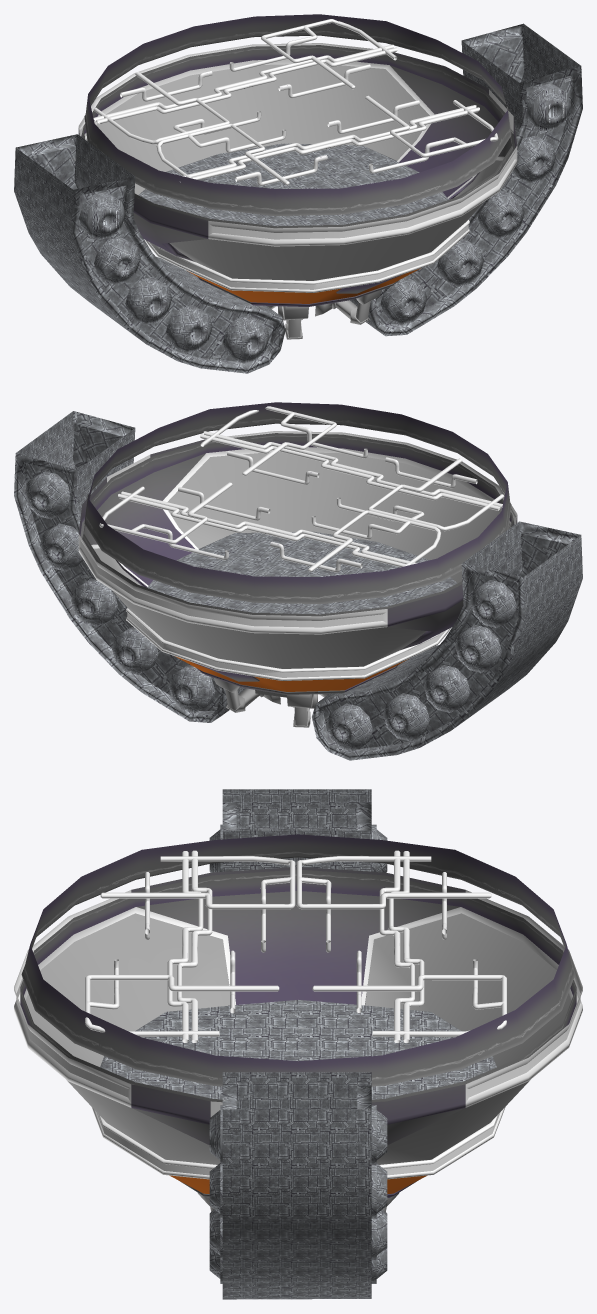
The model's file is ShipBrettom.fbx.
3 views of the same model, one above another, from view 1: azimuth 30°, elevation 25°; view 2: azimuth 150°, elevation 25°; view 3: azimuth 270°, elevation 25° (orthographic). The views are drawn at different scales.
Parts seen in each view (by area): view 1: polySurface32, polySurface41, Sheel, polySurface42, polySurface40, CeilingStuff6, pCube8; view 2: polySurface32, polySurface41, Sheel, polySurface42, polySurface40, CeilingStuff6, pCube8; view 3: polySurface32, polySurface41, Sheel, polySurface42, CeilingStuff6, polySurface40.
Boxes of the visible parts, left/top/right/bottom form: polySurface32: left=78, top=43, right=517, bottom=306; polySurface41: left=14, top=23, right=582, bottom=373; Sheel: left=86, top=64, right=501, bottom=280; polySurface42: left=84, top=14, right=511, bottom=216; polySurface40: left=79, top=83, right=571, bottom=363; CeilingStuff6: left=93, top=19, right=498, bottom=185; pCube8: left=267, top=290, right=381, bottom=339; polySurface32: left=78, top=431, right=517, bottom=694; polySurface41: left=14, top=411, right=582, bottom=760; Sheel: left=94, top=452, right=509, bottom=668; polySurface42: left=84, top=402, right=511, bottom=604; polySurface40: left=24, top=471, right=516, bottom=751; CeilingStuff6: left=99, top=406, right=504, bottom=572; pCube8: left=214, top=678, right=328, bottom=727; polySurface32: left=14, top=867, right=582, bottom=1197; polySurface41: left=222, top=789, right=371, bottom=1299; Sheel: left=25, top=913, right=571, bottom=1164; polySurface42: left=21, top=834, right=575, bottom=1086; CeilingStuff6: left=85, top=850, right=506, bottom=1042; polySurface40: left=209, top=824, right=387, bottom=1283.
Size of the model in its own units: 25.16 by 10.87 by 18.8.
6 materials, 4 textured.
